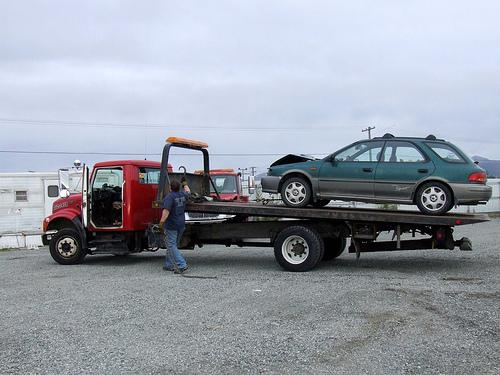truck: (43, 133, 493, 273)
